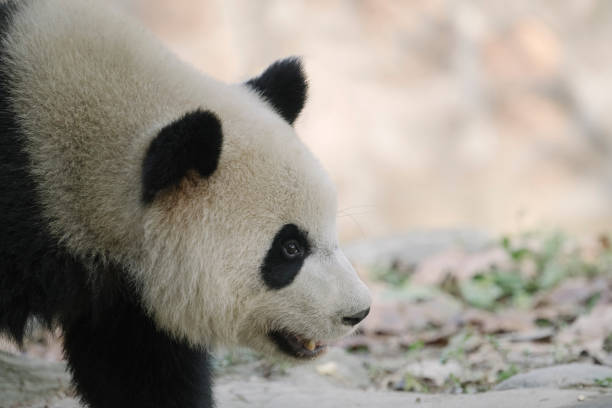panda: (135, 60, 394, 382)
